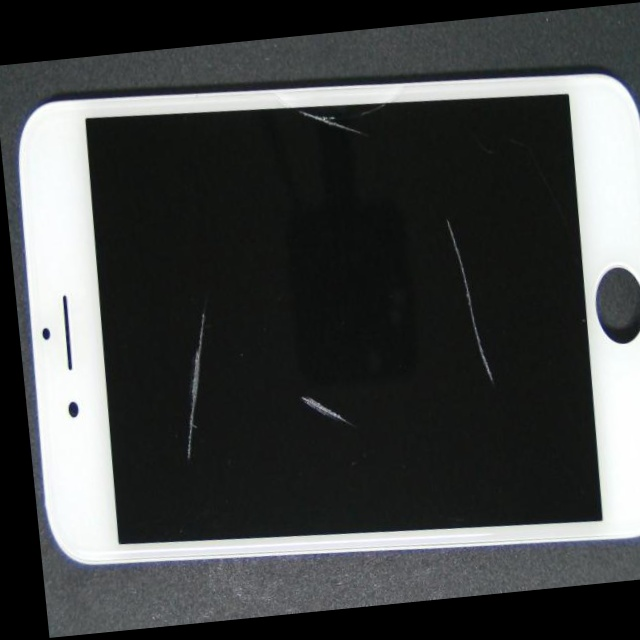scratch: (131, 159, 461, 597), (280, 294, 640, 504), (73, 252, 268, 632), (217, 67, 503, 164)
